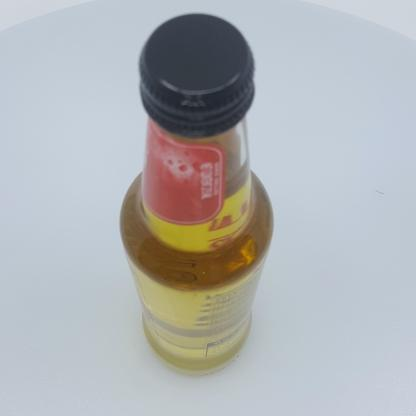----------------: (119, 11, 274, 378)
